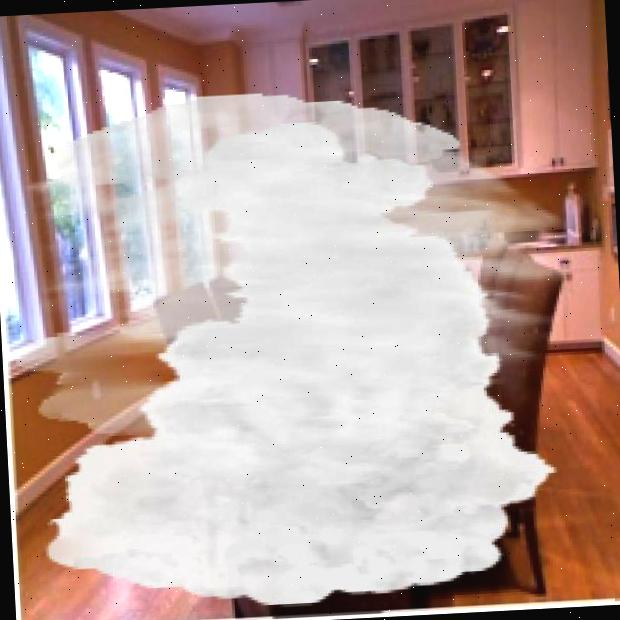smoke: (3, 77, 586, 620)
